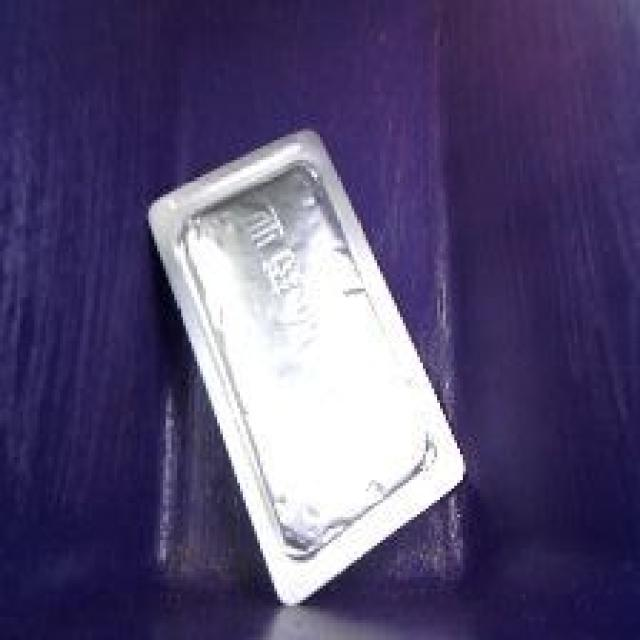med_plate: (131, 119, 481, 617)
